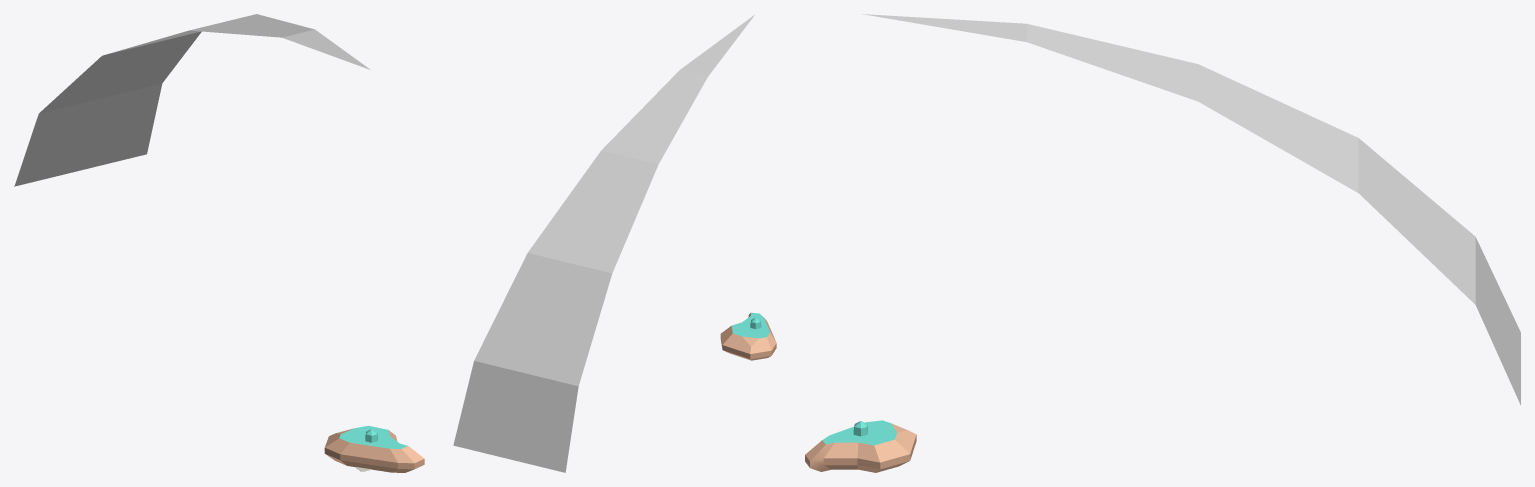
The model's file is living-lab-assets.fbx.
The picture shows the model from 3 angles, left to right: view 1: azimuth 30°, elevation 25°; view 2: azimuth 150°, elevation 25°; view 3: azimuth 270°, elevation 25°; orthographic projection. The views are drawn at different scales.
Parts seen in each view (by area): view 1: DomePane1, DomePane2, ScenicRock, DomePane4, DomePane5; view 2: DomePane2, DomePane1, DomePane3, DomePane4, ScenicRock, DomePane5; view 3: DomePane3, DomePane2, DomePane4, ScenicRock, DomePane1, DomePane5.
Part boxes in pixels (box(x1,y1,x2,y2)): DomePane1: box(14, 83, 162, 186); DomePane2: box(39, 31, 201, 113); ScenicRock: box(324, 425, 424, 472); DomePane4: box(189, 14, 314, 37); DomePane5: box(282, 29, 370, 69); DomePane2: box(474, 253, 612, 386); DomePane1: box(453, 361, 578, 472); DomePane3: box(528, 150, 658, 273); DomePane4: box(601, 70, 707, 164); ScenicRock: box(720, 312, 776, 360); DomePane5: box(680, 15, 754, 76); DomePane3: box(1198, 64, 1358, 192); DomePane2: box(1358, 138, 1475, 304); DomePane4: box(1026, 24, 1198, 101); ScenicRock: box(805, 420, 916, 472); DomePane1: box(1475, 237, 1520, 405); DomePane5: box(862, 14, 1026, 41).
Size of the model in its own units: 9137 by 25800 by 37632.
